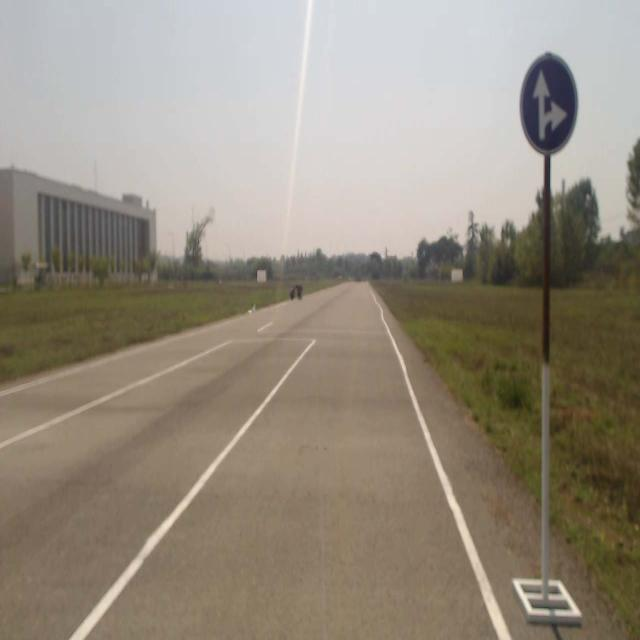ilerisag: (520, 54, 577, 152)
